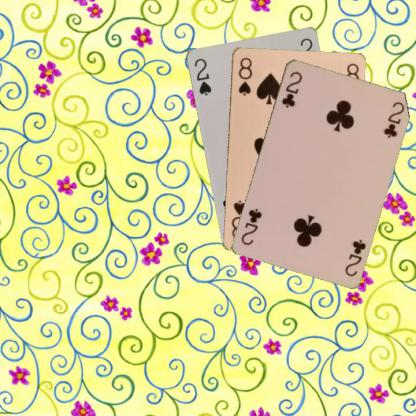2c: (342, 236, 368, 278), (278, 68, 303, 109)
2s: (191, 56, 213, 96)
8s: (235, 54, 253, 96)
